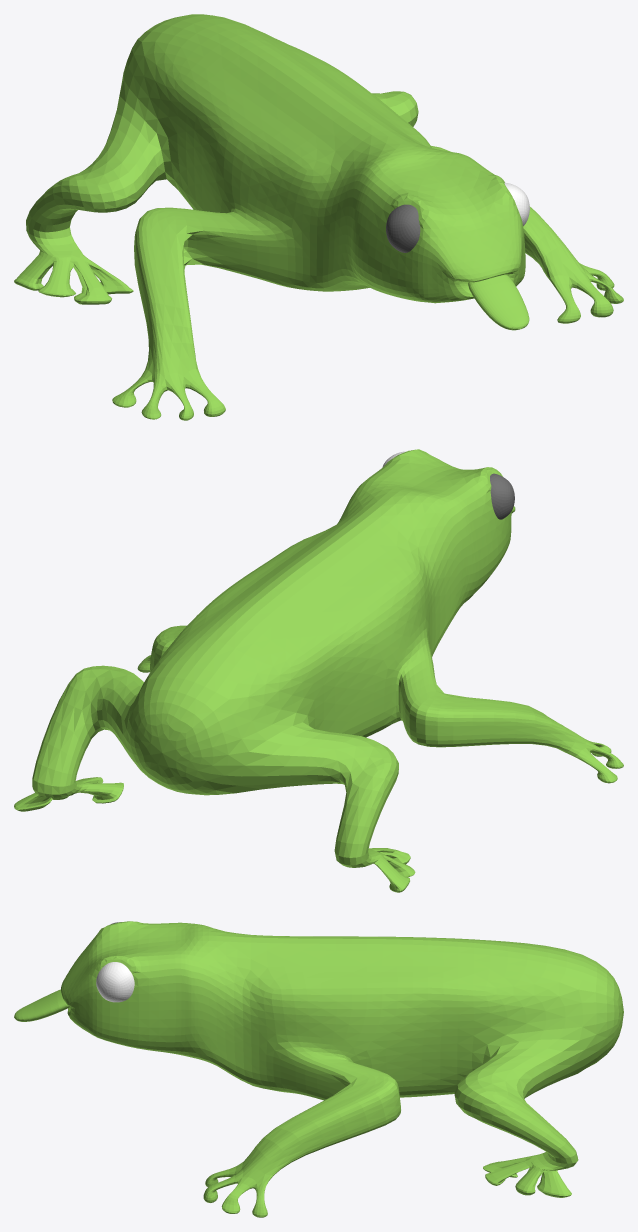
File: ashung.dae
The picture shows the model from 3 angles, top to bottom: view 1: azimuth 30°, elevation 25°; view 2: azimuth 150°, elevation 25°; view 3: azimuth 270°, elevation 25°; orthographic projection. The views are drawn at different scales.
Visible parts, largest first — view 1: Cube-S3D-13-SMOOTHED, Dodecahedron-S3D-15-SMOOTHED; view 2: Cube-S3D-13-SMOOTHED, Dodecahedron-S3D-15-SMOOTHED; view 3: Cube-S3D-13-SMOOTHED, Dodecahedron-S3D-14-SMOOTHED.
Boxes of the visible parts, bbox=[...] form: Cube-S3D-13-SMOOTHED: bbox=[14, 14, 623, 420]; Dodecahedron-S3D-15-SMOOTHED: bbox=[386, 204, 420, 252]; Cube-S3D-13-SMOOTHED: bbox=[14, 449, 623, 892]; Dodecahedron-S3D-15-SMOOTHED: bbox=[490, 473, 514, 519]; Cube-S3D-13-SMOOTHED: bbox=[14, 921, 623, 1217]; Dodecahedron-S3D-14-SMOOTHED: bbox=[96, 962, 134, 1002].
Bounding box in the file's own units: 7.49 × 3.37 × 9.42.
